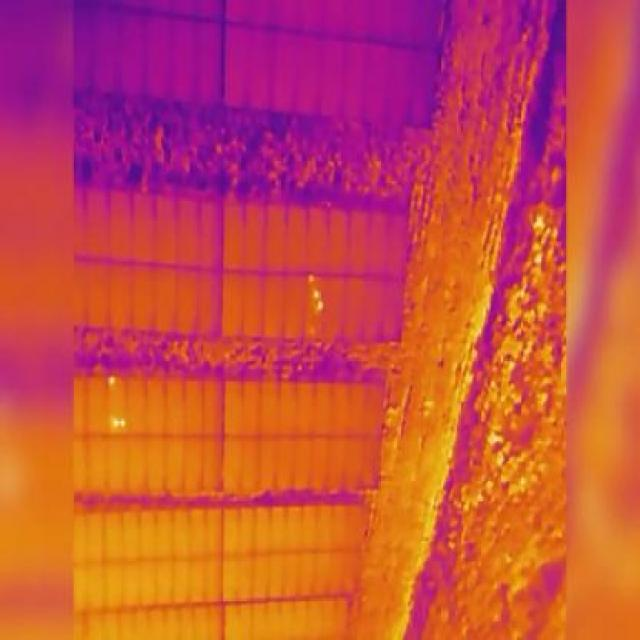hotspot: (121, 415, 127, 431), (317, 295, 323, 311), (110, 377, 116, 385), (314, 290, 320, 298), (114, 418, 118, 427)
